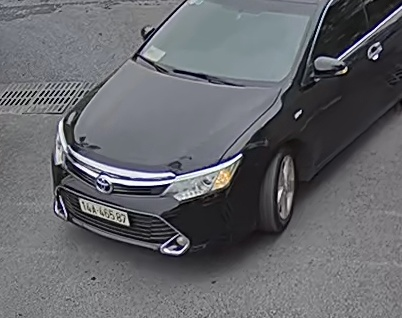vehicle plate: (76, 195, 131, 229)
